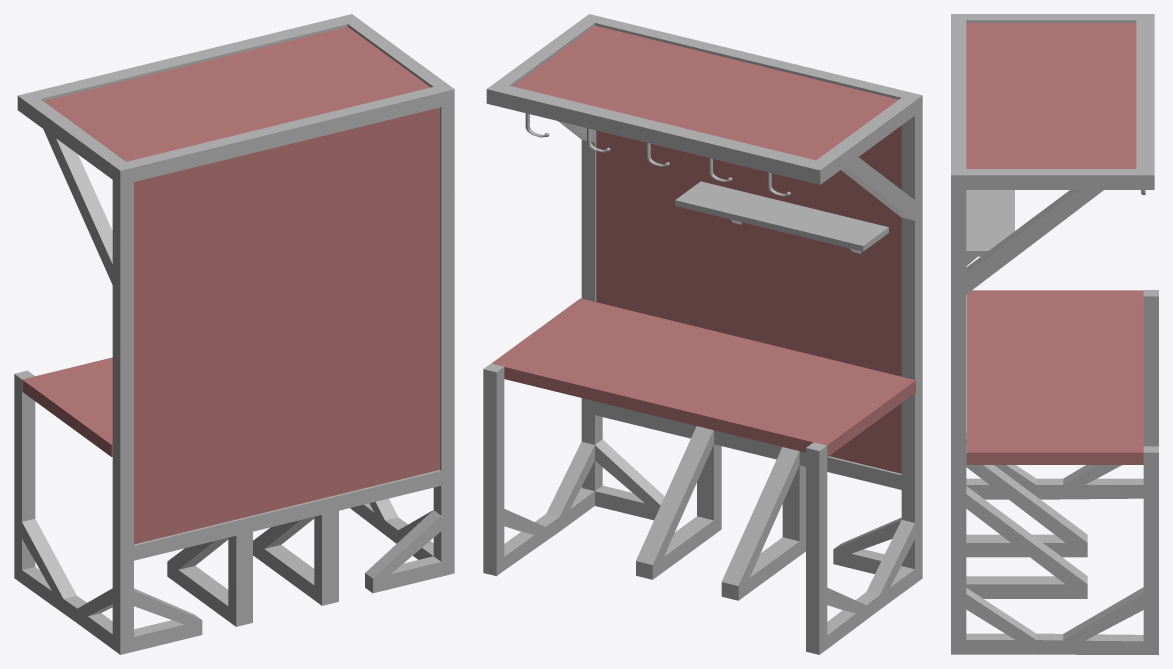
The model's file is WorkbenchBase.fbx.
The picture shows the model from 3 angles, left to right: view 1: azimuth 30°, elevation 25°; view 2: azimuth 150°, elevation 25°; view 3: azimuth 270°, elevation 25°; orthographic projection.
Visible parts, largest first — view 1: woodback_low, frame_low, woodtop_low, table_low; view 2: frame_low, woodback_low, table_low, woodtop_low, shelf_low; view 3: frame_low, table_low, woodtop_low, shelf_low.
Part boxes in pixels (box(x1,y1,x2,y2)): woodback_low: box(134, 107, 439, 544); frame_low: box(14, 14, 454, 654); woodtop_low: box(43, 26, 430, 161); table_low: box(22, 357, 112, 456); frame_low: box(483, 14, 922, 654); woodback_low: box(596, 125, 901, 473); table_low: box(491, 298, 915, 456); woodtop_low: box(512, 25, 898, 160); shelf_low: box(675, 181, 888, 251); frame_low: box(951, 14, 1158, 654); table_low: box(966, 290, 1143, 464); woodtop_low: box(966, 23, 1136, 168); shelf_low: box(966, 190, 1014, 256).
Size of the model in its own units: 238 by 326 by 128.
